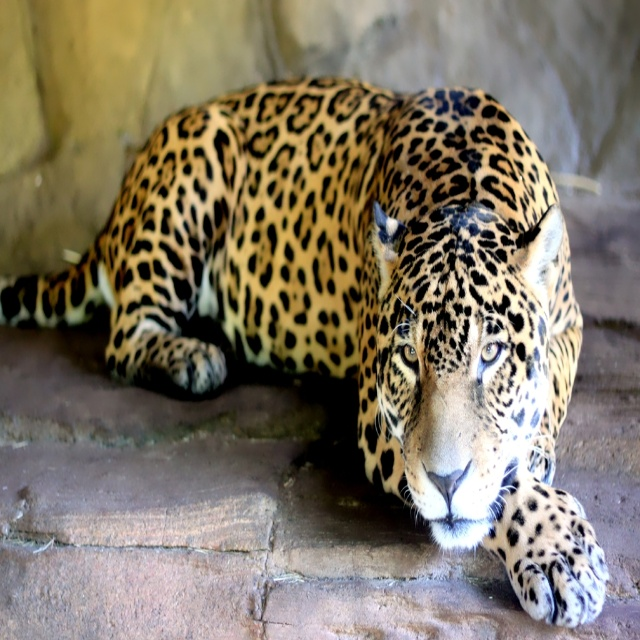Jaguar: (0, 78, 610, 624)
